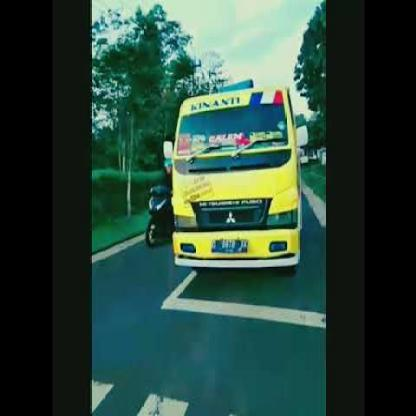truck: (163, 78, 306, 286)
